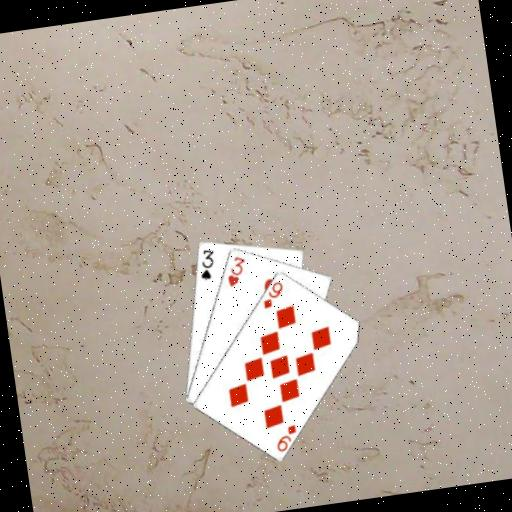3H: (222, 252, 250, 289)
3S: (194, 246, 219, 282)
9D: (271, 421, 301, 454), (258, 278, 287, 311)
